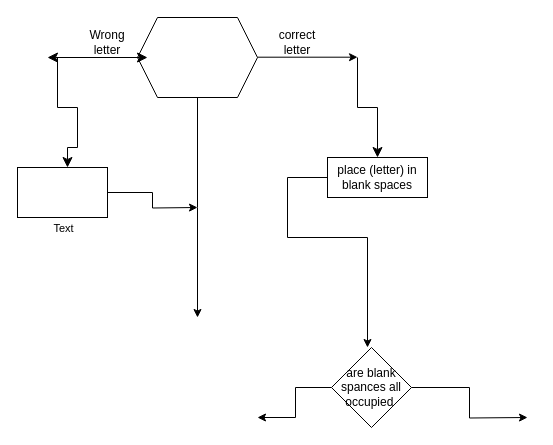
Some shapes in this 553 by 445 pixel diagram are drawn without their labels. The shapes that lost their labels are listed below. From the top down, each one's centre as x and y in pixels, then its label:
At point (197, 57): "Ask user to enter a letter".
At point (62, 192): "draw a hangman part".
